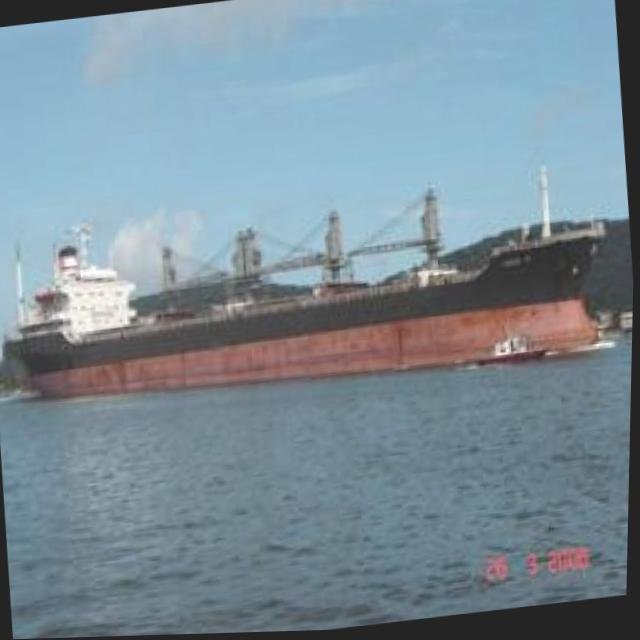ship2: (3, 169, 608, 401)
